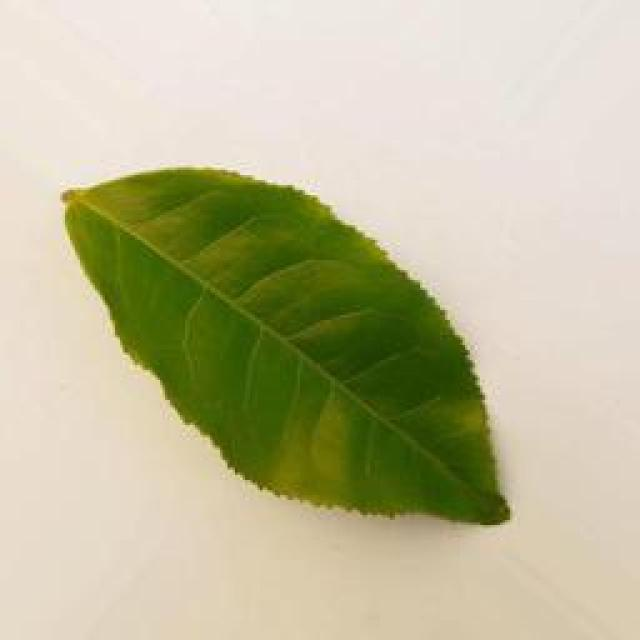Healthy: (52, 158, 532, 537)
